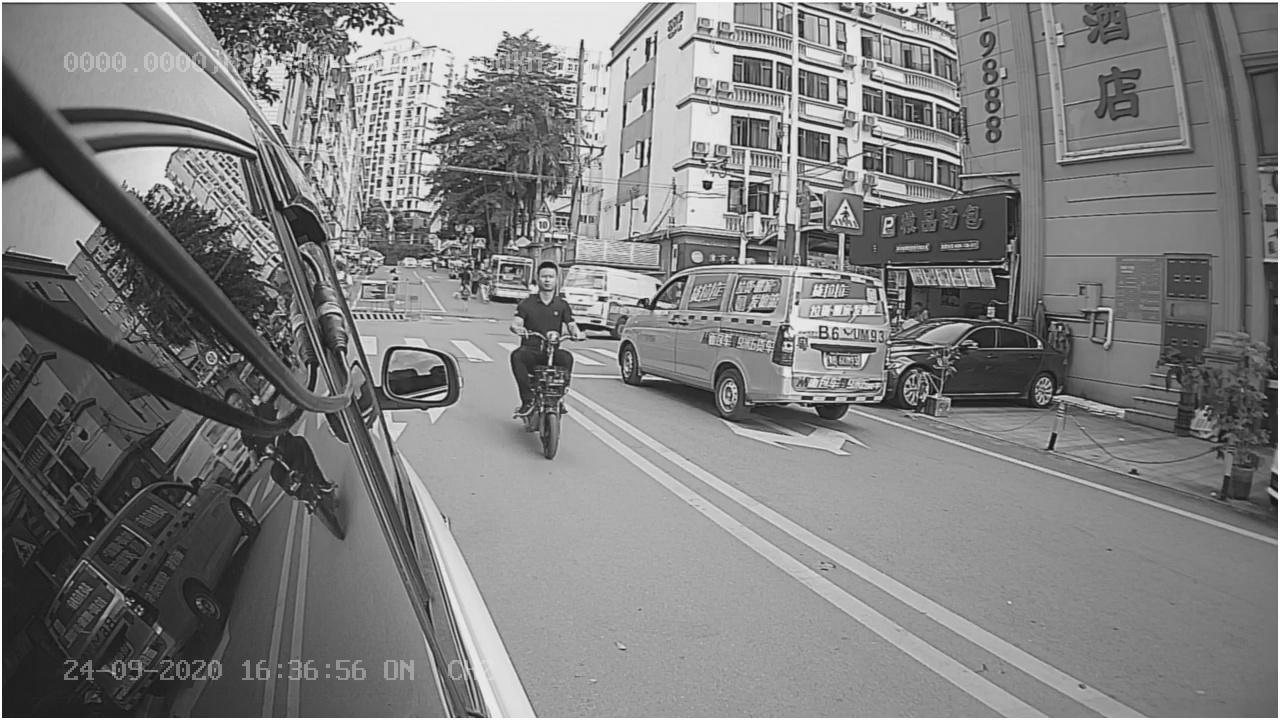person: (501, 259, 599, 460)
